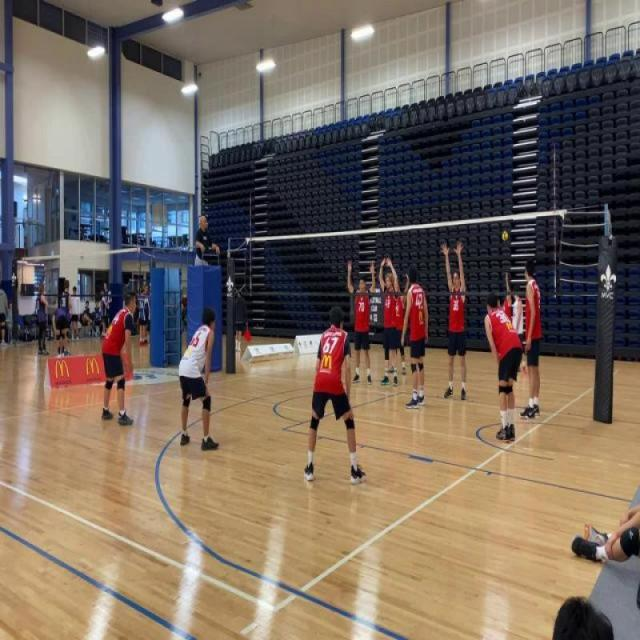volleyball: (502, 228, 509, 244)
